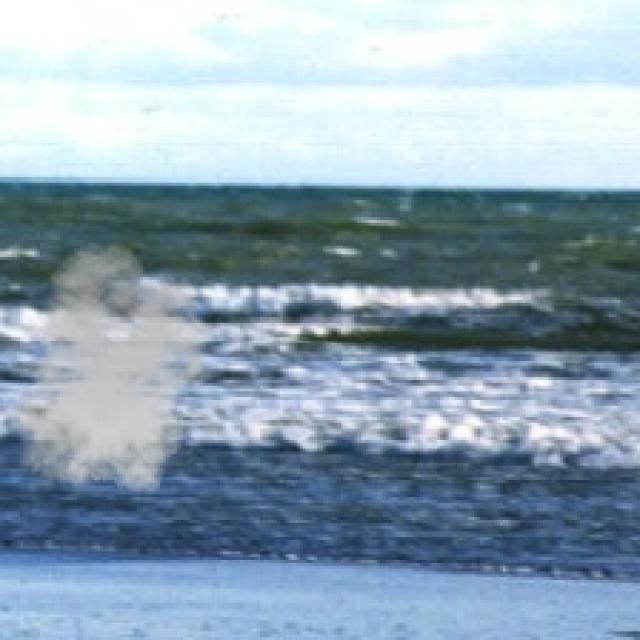smoke: (6, 243, 214, 503)
